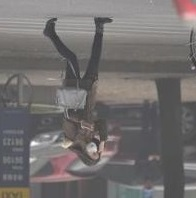person: (44, 15, 116, 166), (134, 98, 165, 198)
